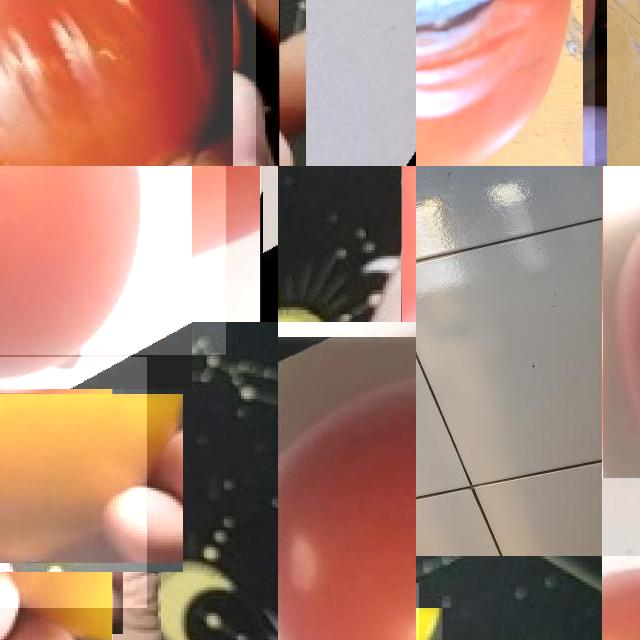1: (0, 0, 256, 166), (416, 0, 595, 166)
Fresh Tomato: (278, 322, 416, 640), (0, 166, 226, 355), (0, 357, 147, 608)
